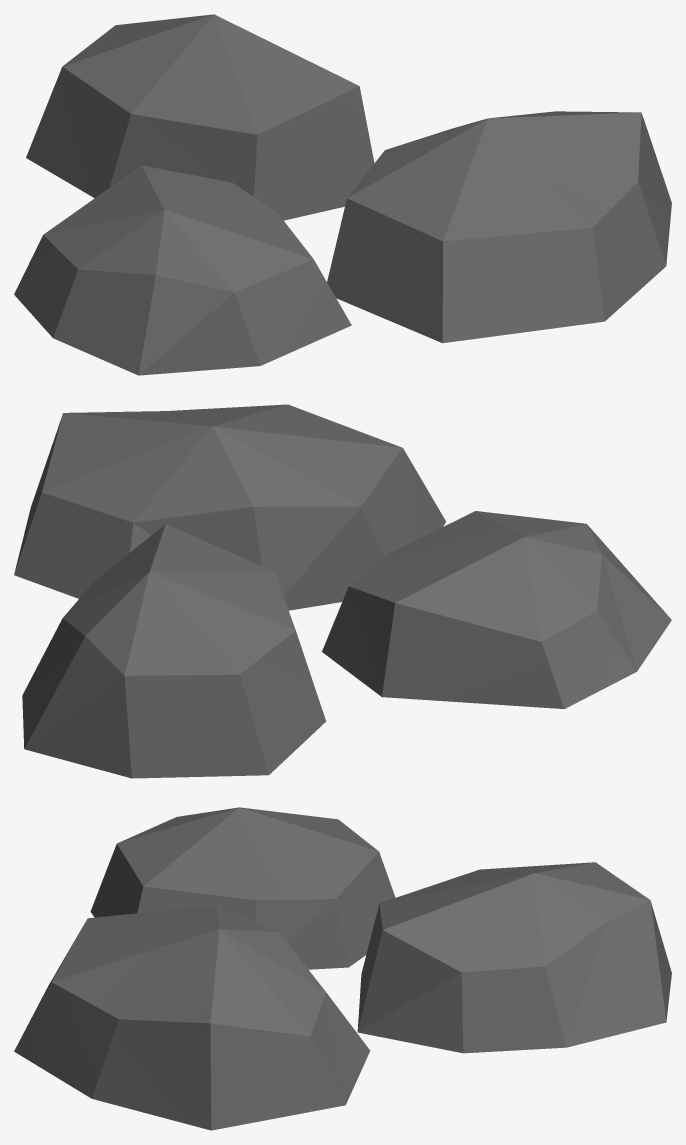
File: Piedras.glb
3 renders of one model, top to bottom at view 1: azimuth 30°, elevation 25°; view 2: azimuth 150°, elevation 25°; view 3: azimuth 270°, elevation 25°, orthographic. The views are drawn at different scales.
Visible parts, largest first — view 1: SM_Env_Stone_02_2; view 2: SM_Env_Stone_02_2; view 3: SM_Env_Stone_02_2.
Boxes of the visible parts, <box> form: SM_Env_Stone_02_2: <box>14,14,671,375</box>; SM_Env_Stone_02_2: <box>14,404,671,778</box>; SM_Env_Stone_02_2: <box>14,807,671,1130</box>.
Bounding box in the file's own units: 1.26 × 0.2665 × 1.26.
Materials: 1 (1 with a texture image).
